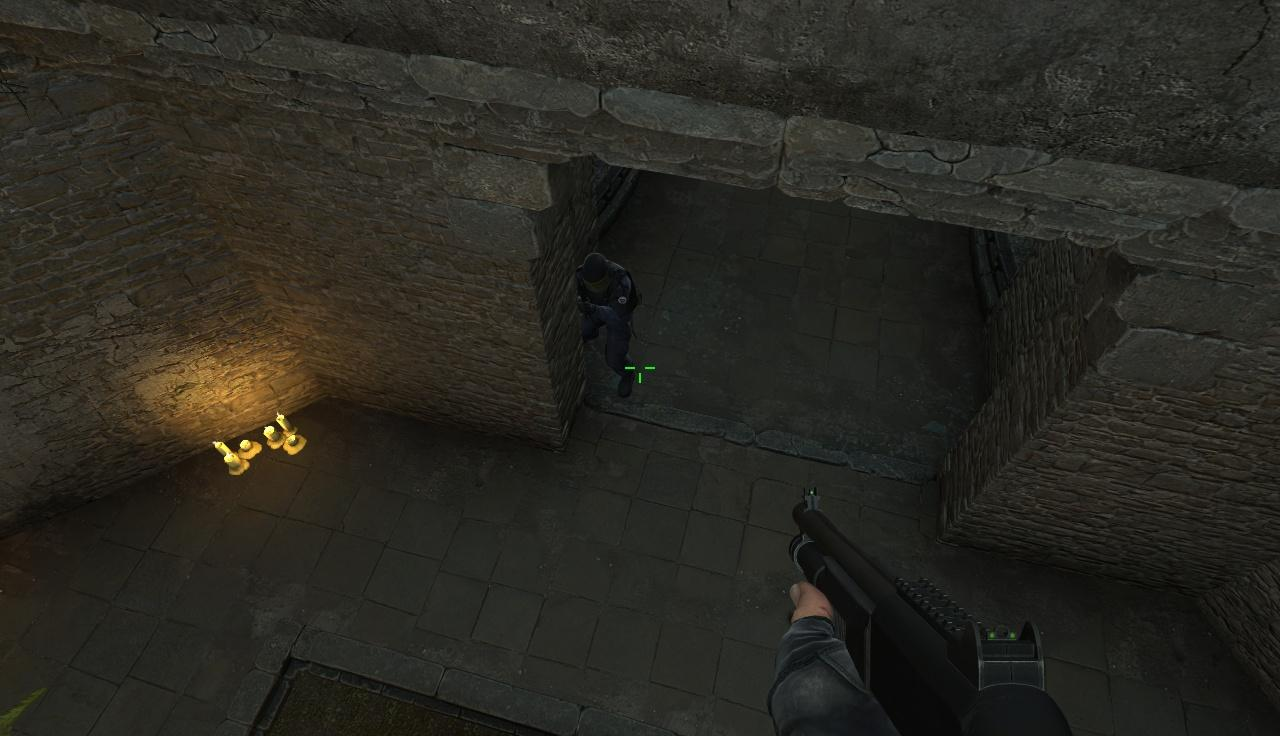ct: (574, 253, 635, 403)
cthead: (580, 255, 611, 288)
rifle: (779, 492, 1096, 736)
shotgun: (779, 492, 1096, 736)
